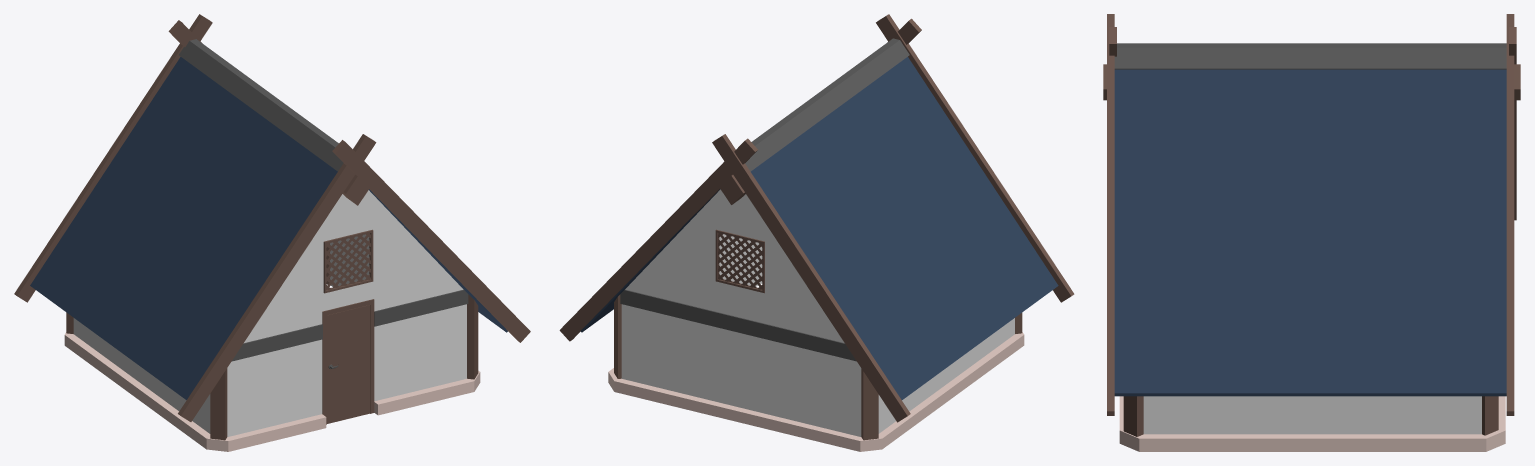
File: Dungeon_House5.fbx
The picture shows the model from 3 angles, left to right: view 1: azimuth 30°, elevation 25°; view 2: azimuth 150°, elevation 25°; view 3: azimuth 270°, elevation 25°; orthographic projection. The views are drawn at different scales.
Visible parts, largest first — view 1: Room.001, Room, Baseboard, Cube, Door, Room.002, Cube.001, Cube.002, Baseboard.002, Room.003, Cube.006, DoorFrame (+1 smaller); view 2: Room.001, Room, Baseboard, Cube.002, Room.002, Cube.003, Baseboard.002, Cube, Room.003, Cube.009, Cube.010; view 3: Room.001, Room, Room.002, Baseboard, Cube.003, Cube.001, Room.003, Cube.002.
Part boxes in pixels (<box>): Room.001: <box>30,57,507,399</box>; Room: <box>73,190,466,436</box>; Baseboard: <box>64,332,480,451</box>; Cube: <box>178,134,376,421</box>; Door: <box>327,305,369,423</box>; Room.002: <box>179,39,343,171</box>; Cube.001: <box>332,140,530,342</box>; Cube.002: <box>14,14,212,302</box>; Baseboard.002: <box>231,289,468,361</box>; Room.003: <box>66,244,478,440</box>; Cube.006: <box>326,233,370,289</box>; DoorFrame: <box>322,299,374,424</box>; Room.001: <box>580,57,1058,399</box>; Room: <box>621,189,1014,436</box>; Baseboard: <box>608,332,1024,451</box>; Cube.002: <box>712,134,910,422</box>; Room.002: <box>745,38,909,171</box>; Cube.003: <box>559,138,757,341</box>; Baseboard.002: <box>620,289,856,361</box>; Cube: <box>876,14,1074,302</box>; Room.003: <box>614,294,1022,440</box>; Cube.009: <box>718,233,762,289</box>; Cube.010: <box>715,229,764,293</box>; Room.001: <box>1114,69,1506,396</box>; Room: <box>1143,396,1481,434</box>; Room.002: <box>1114,43,1506,69</box>; Baseboard: <box>1119,396,1505,451</box>; Cube.003: <box>1506,14,1514,415</box>; Cube.001: <box>1107,14,1114,415</box>; Room.003: <box>1123,396,1498,436</box>; Cube.002: <box>1509,27,1516,220</box>.
Size of the model in its own units: 707 by 555 by 600.
